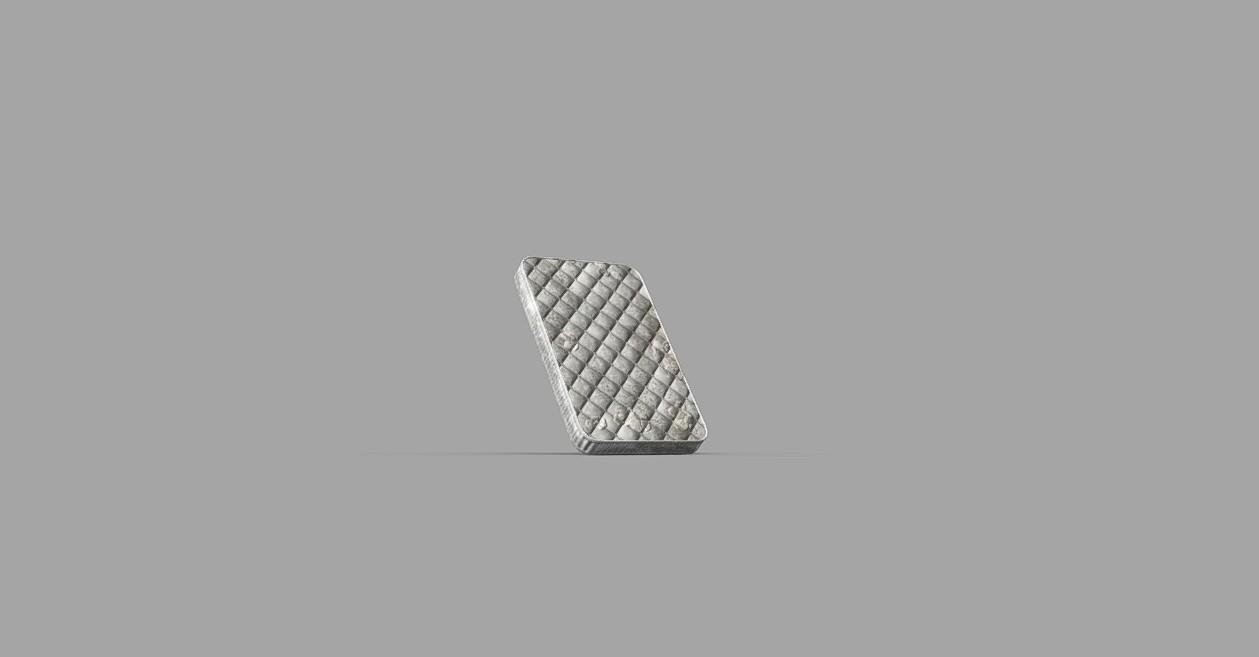Bed-Mattress: (512, 253, 709, 456)
